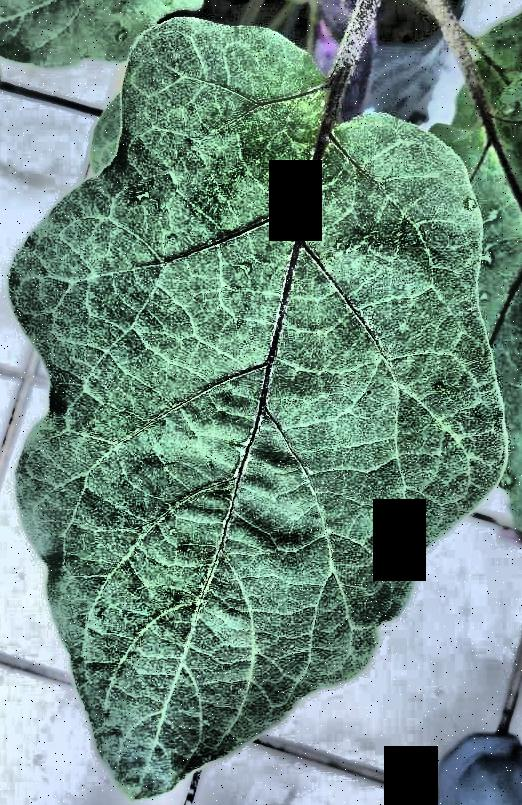HEALTHY: (1, 0, 522, 805)
